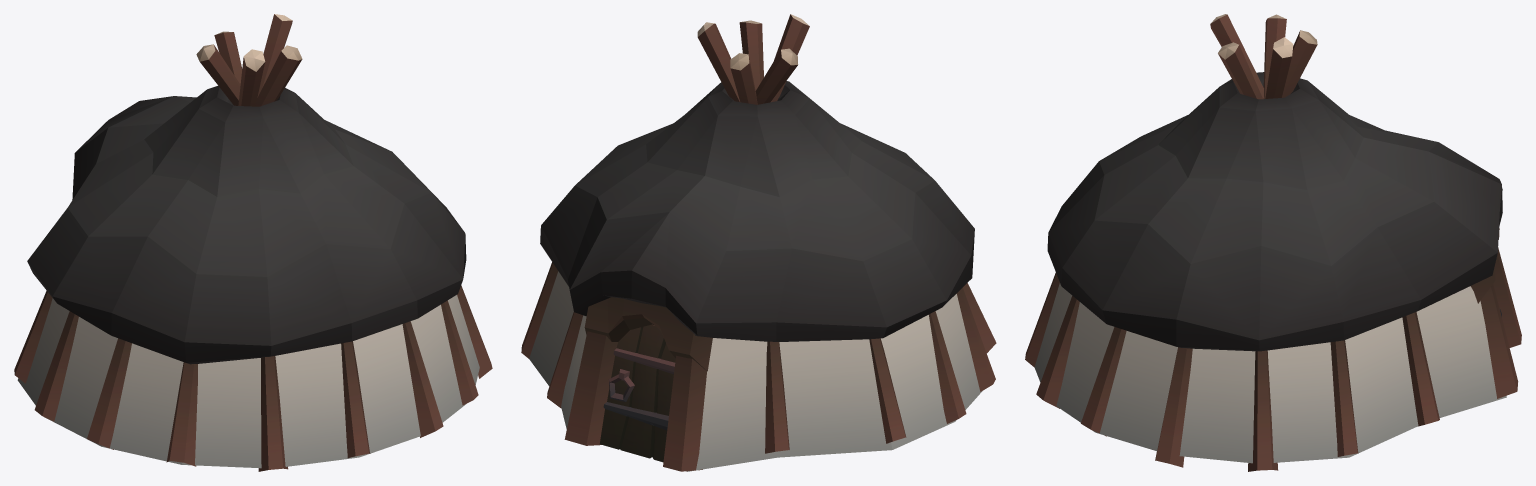
The model's file is Hut.FBX.
3 views of the same model, side by side, from view 1: azimuth 30°, elevation 25°; view 2: azimuth 150°, elevation 25°; view 3: azimuth 270°, elevation 25° (orthographic).
Visible parts, largest first — view 1: pCube246; view 2: pCube246; view 3: pCube246.
Part boxes in pixels (left/top/right/bottom): pCube246: left=14, top=14, right=492, bottom=471; pCube246: left=521, top=14, right=996, bottom=471; pCube246: left=1025, top=14, right=1521, bottom=471.
Bounding box in the file's own units: 6.05 × 4.92 × 6.22.
1 material, 1 textured.
